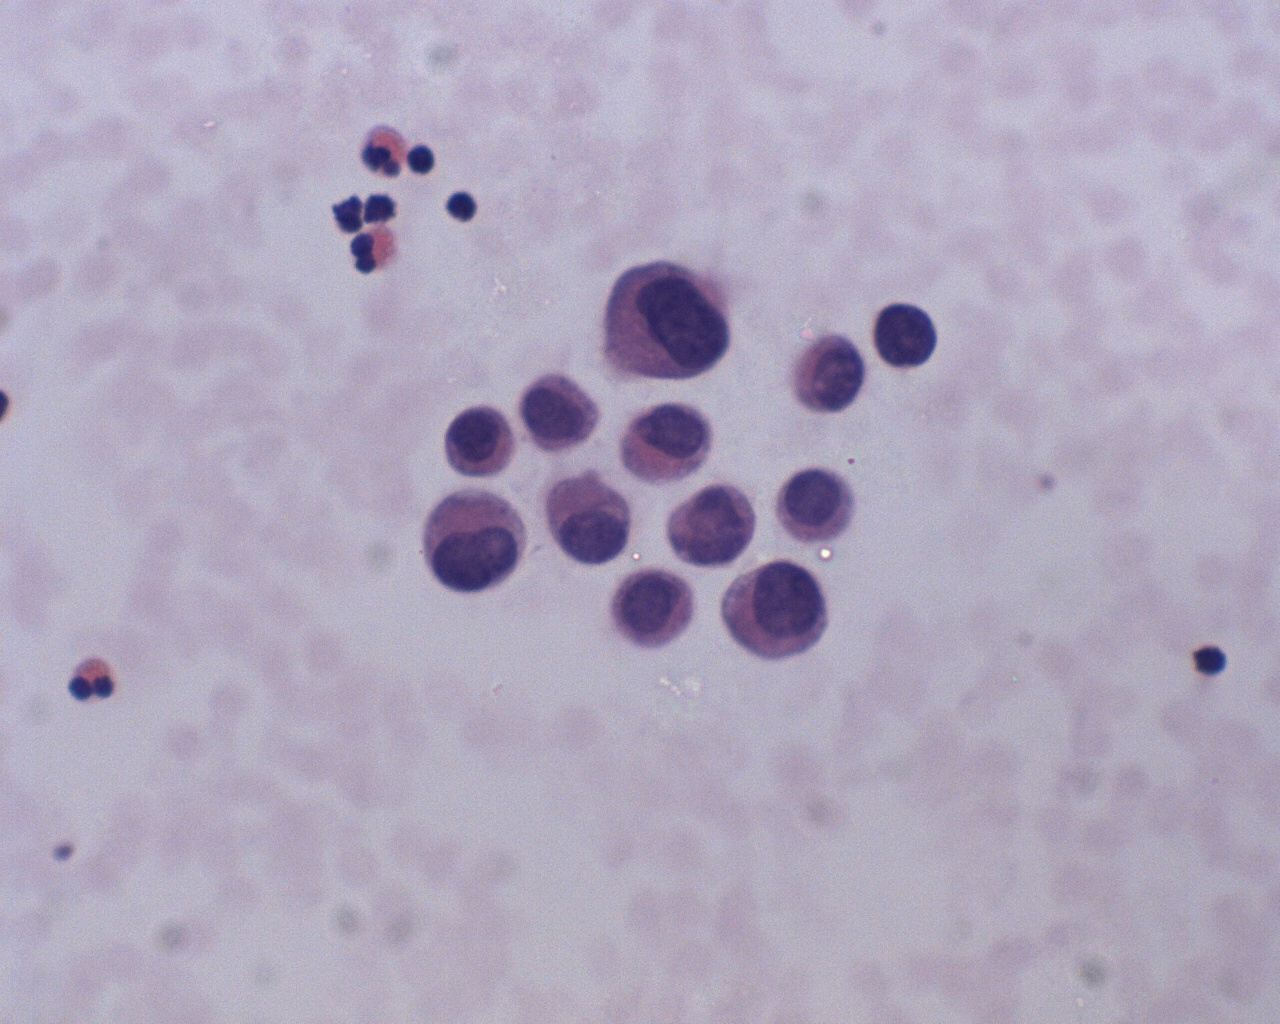ab: (588, 256, 744, 392), (714, 559, 837, 666), (418, 486, 534, 597), (603, 559, 709, 659), (545, 467, 642, 569), (614, 399, 726, 487), (516, 365, 615, 452), (667, 481, 762, 572), (435, 399, 534, 485), (776, 464, 869, 549), (789, 329, 872, 421)
lymph: (441, 182, 488, 228)
